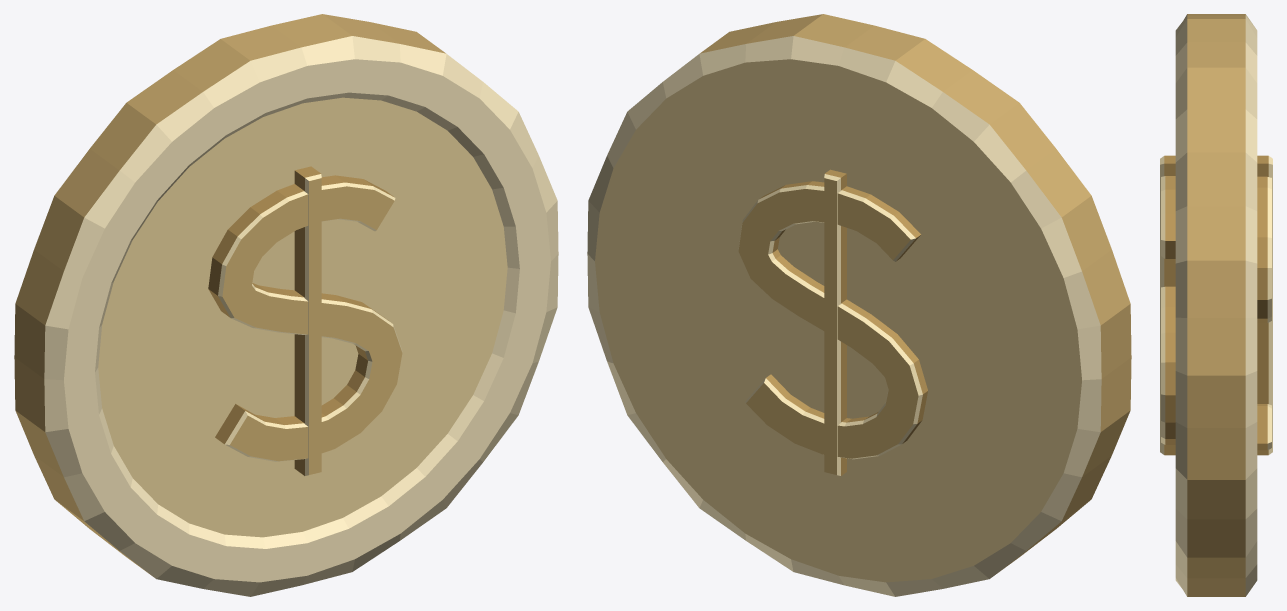
The model's file is coin-dollar.glb.
3 renders of one model, left to right at view 1: azimuth 30°, elevation 25°; view 2: azimuth 150°, elevation 25°; view 3: azimuth 270°, elevation 25°, orthographic. The views are drawn at different scales.
Parts seen in each view (by area): view 1: dollar; view 2: dollar; view 3: dollar.
Part boxes in pixels (box(x1,y1,x2,y2)): dollar: box(14, 14, 558, 596); dollar: box(587, 14, 1131, 596); dollar: box(1160, 14, 1272, 596).
Size of the model in its own units: 1.98 by 1.98 by 0.386.
